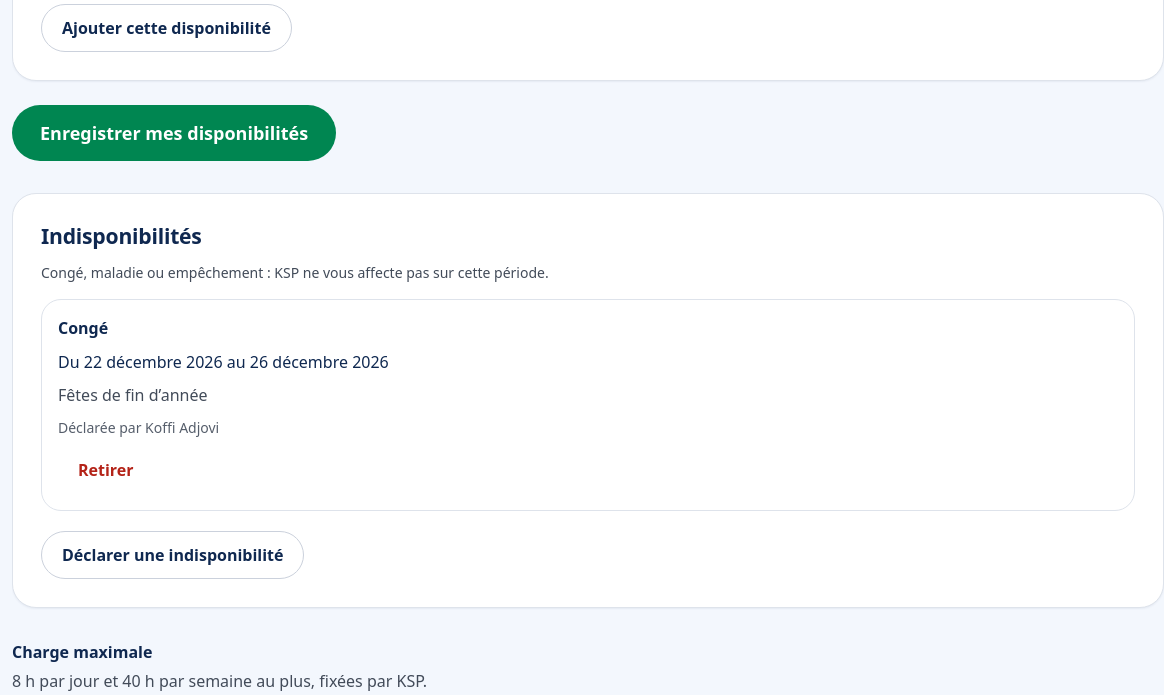
indisponibilités › déclare une indisponibilité (journées entières, clé d’idempotence)
(page scrolled)
Click the button "Déclarer une indisponibilité" at (173, 555), box [41,531,304,579]
(page scrolled)
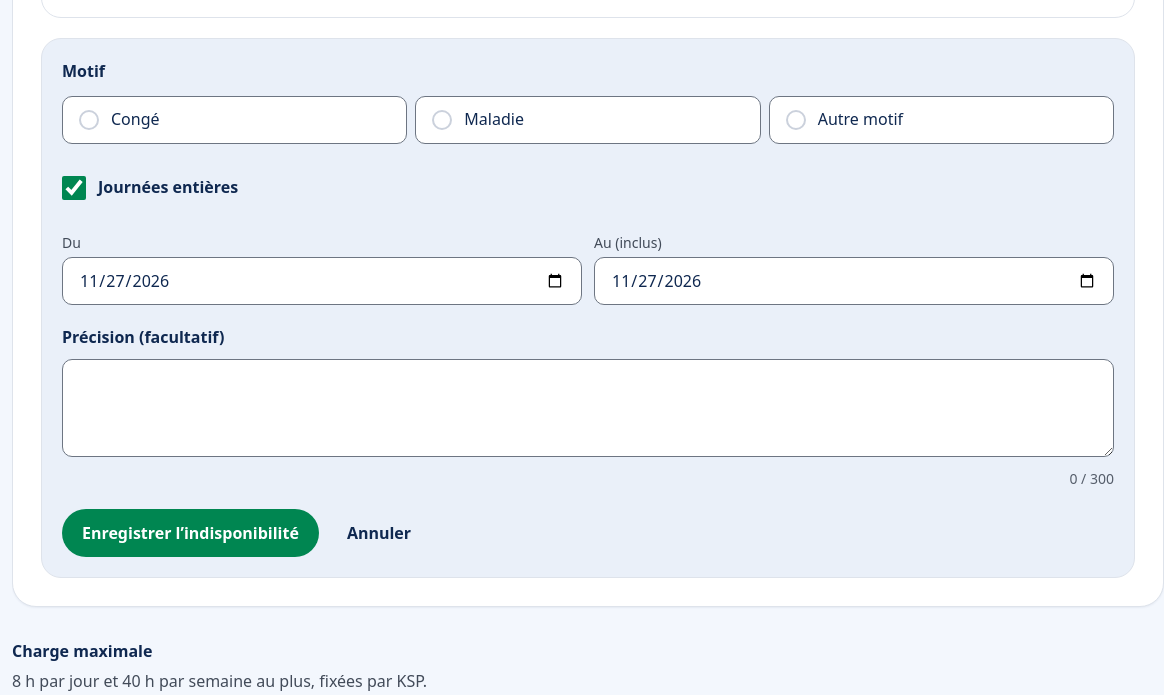
Click the button "Enregistrer l’indisponibilité" at (190, 534), box [62,510,319,558]
(page scrolled)
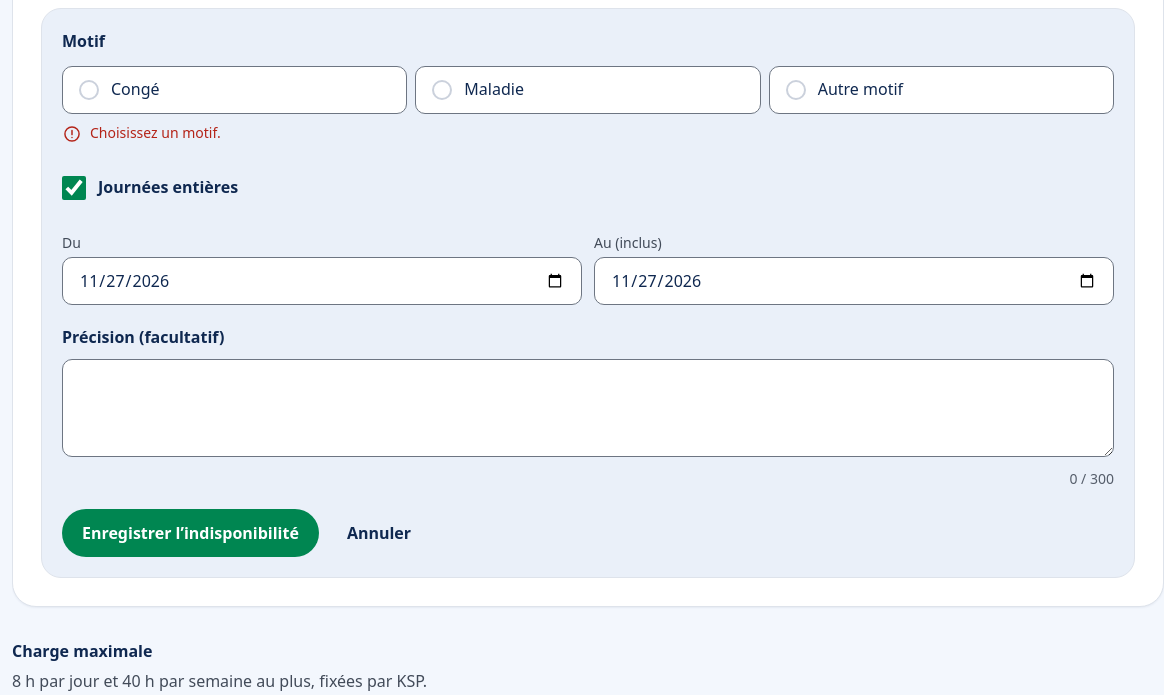
Expected: the text "Choisissez un motif." is shown, [90,122,221,143]
Click the radio button labelled "Maladie" at (494, 89), box [415,66,761,114]
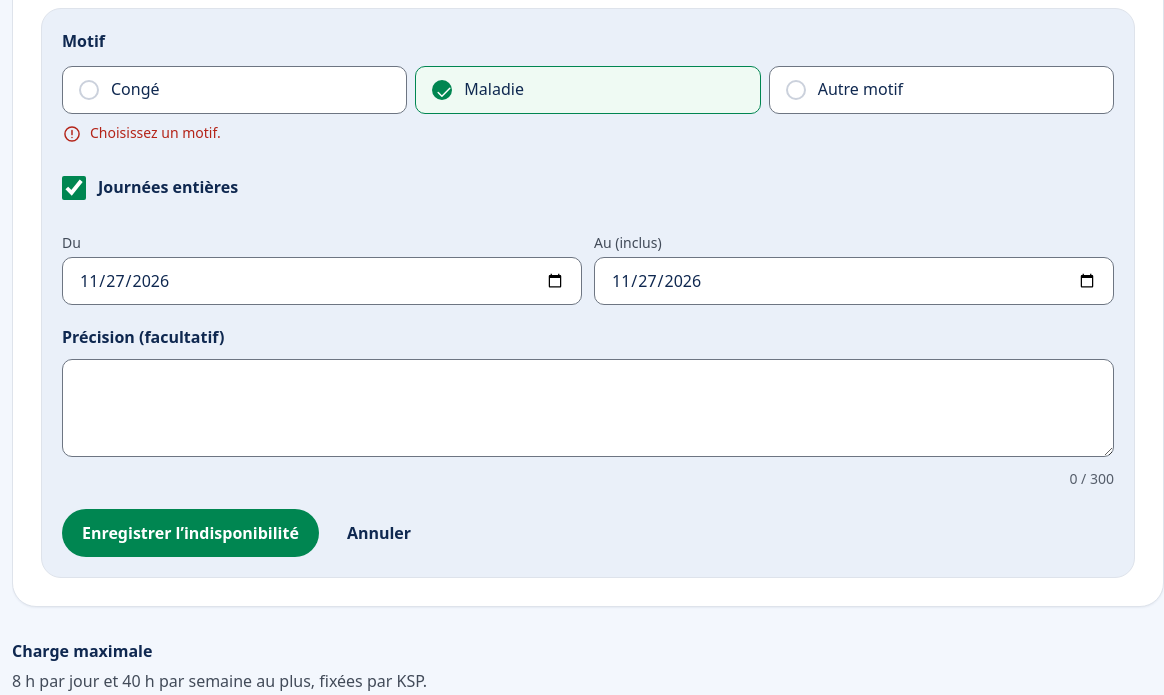
Type "2026-12-01" into the date field labelled "Du" at (322, 281), box [62,257,582,305]
Type "2026-12-02" into the date field labelled "Au (inclus)" at (854, 281), box [594,257,1114,305]
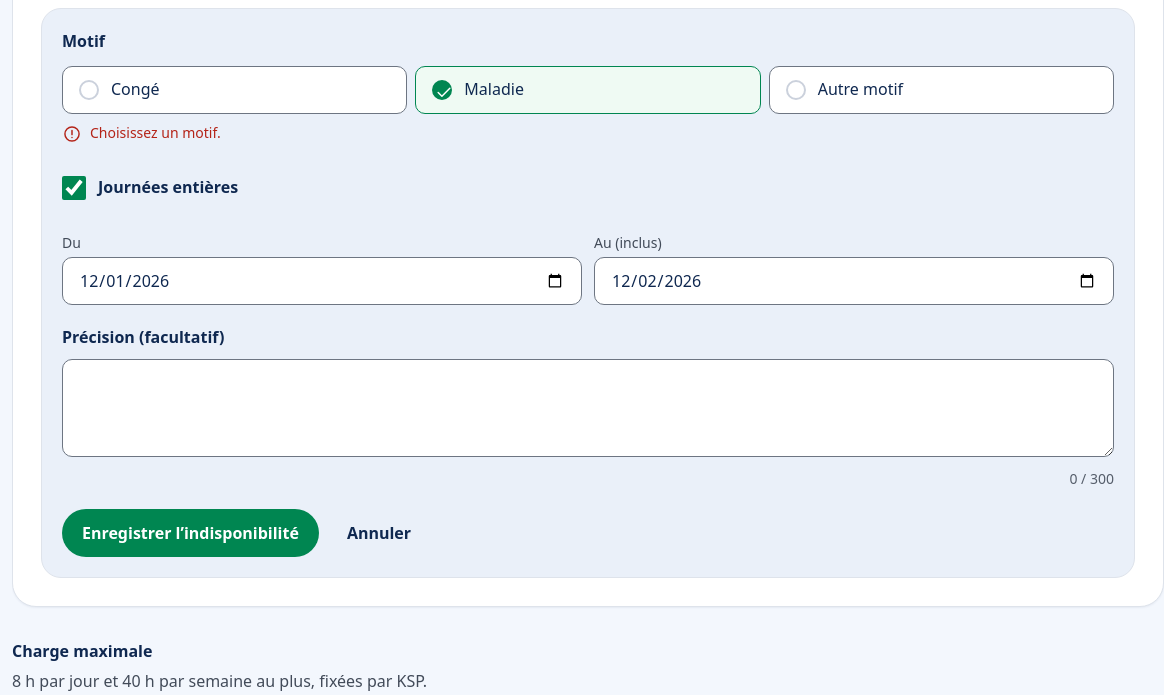
Type "Repos prescrit" into the text box labelled "Précision (facultatif)" at (588, 408), box [62,359,1114,457]
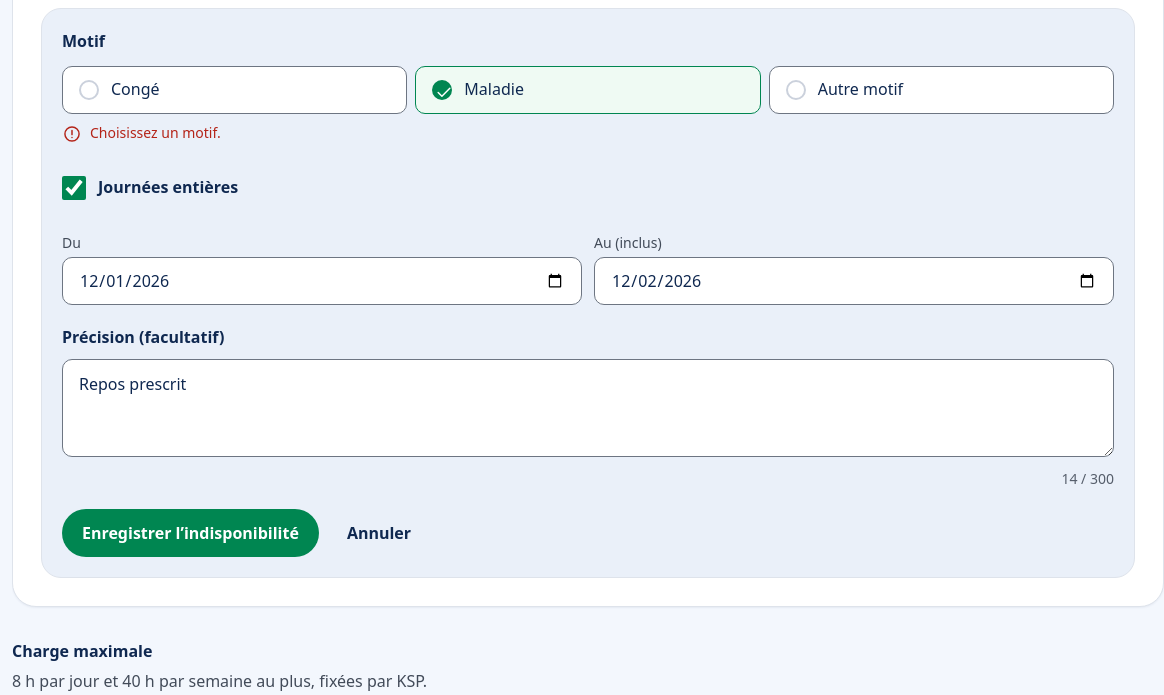
Click the button "Enregistrer l’indisponibilité" at (190, 534), box [62,510,319,558]
(page scrolled)
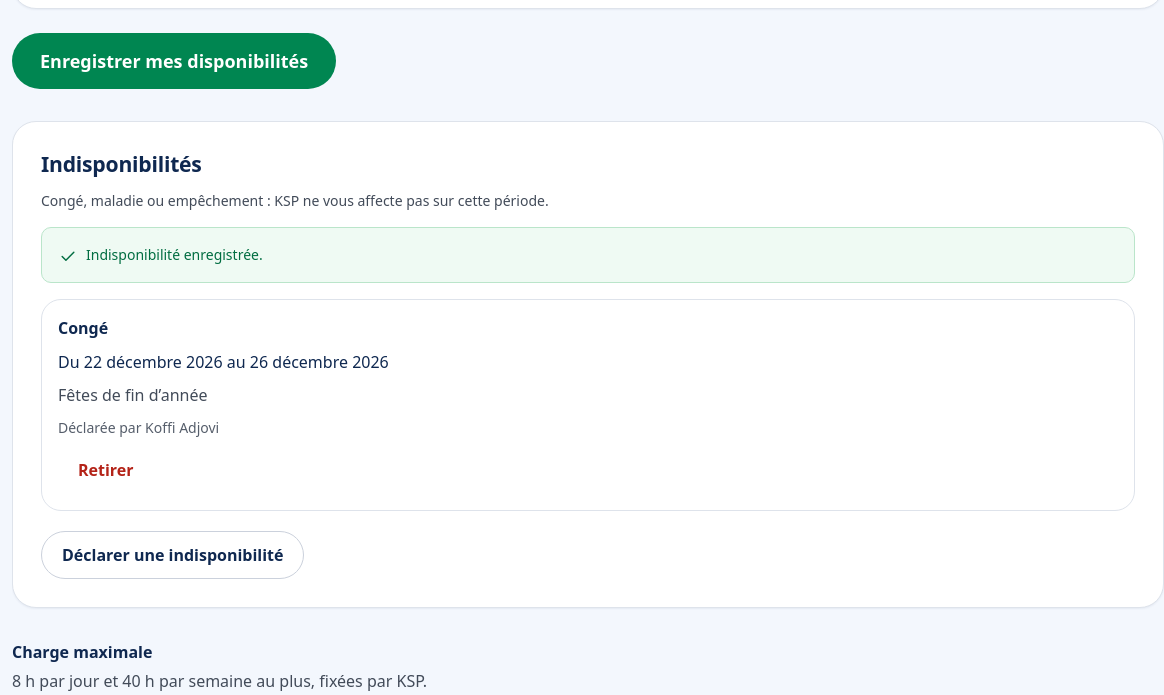
Expected: the text "Indisponibilité enregistrée." is shown, [86,244,263,265]
